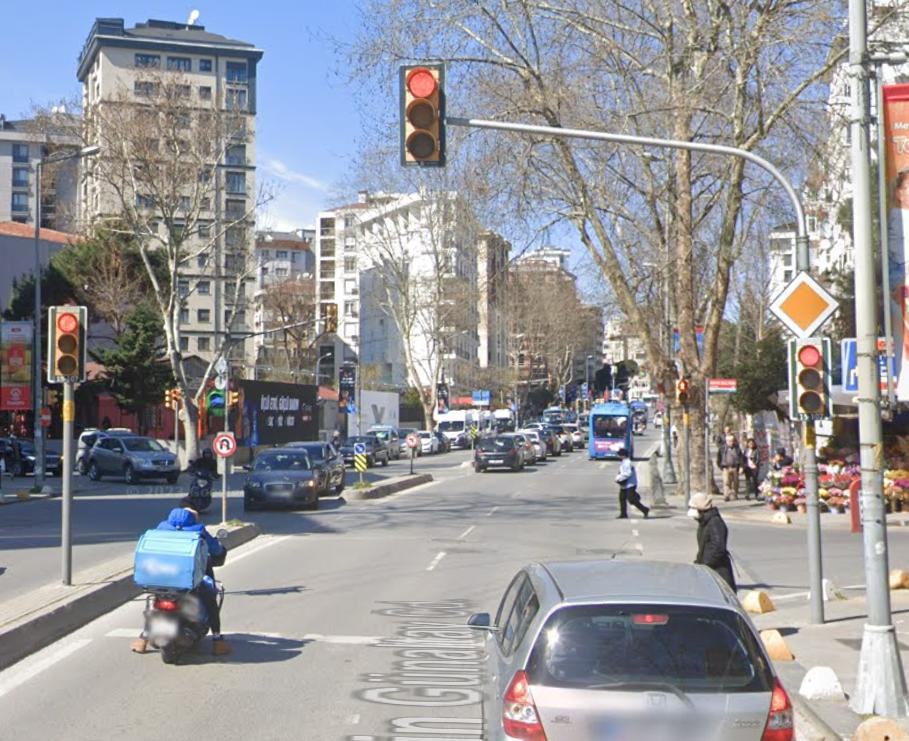redlight: (402, 64, 444, 169), (789, 337, 833, 422), (52, 307, 87, 387)
